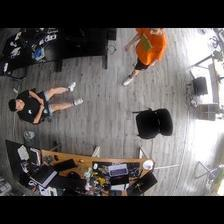normal: (7, 80, 85, 121), (122, 28, 170, 89)
